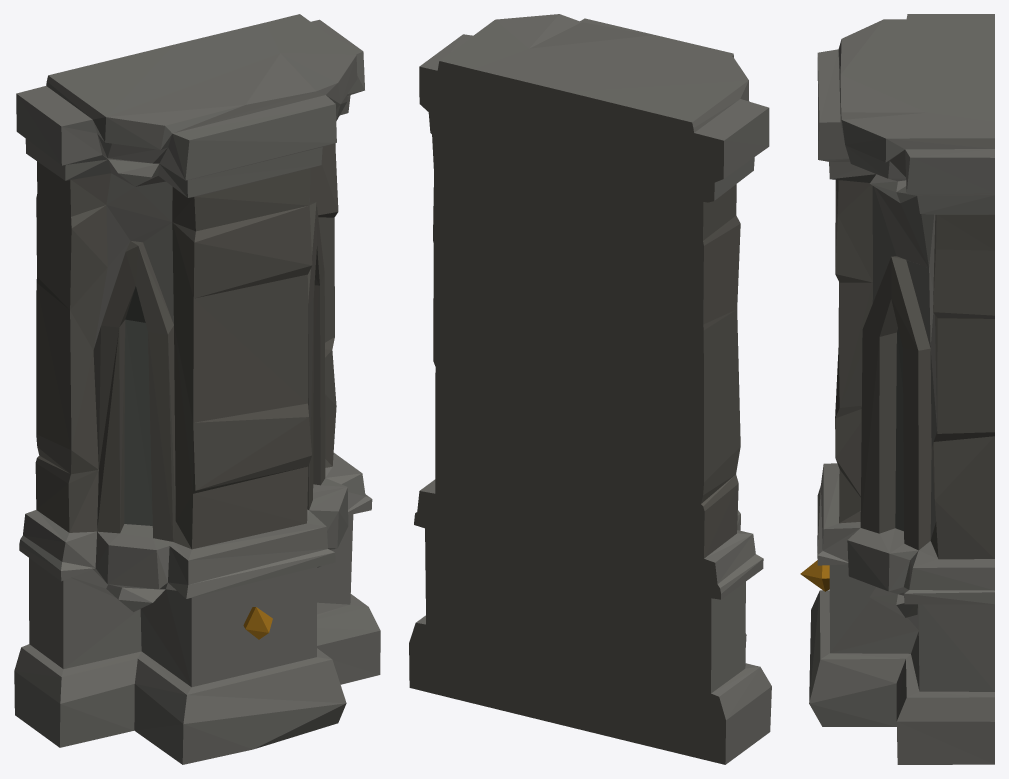
File: MDungeon_PillarSmall_Base_Half.FBX
3 views of the same model, side by side, from view 1: azimuth 30°, elevation 25°; view 2: azimuth 150°, elevation 25°; view 3: azimuth 270°, elevation 25° (orthographic). The views are drawn at different scales.
Parts seen in each view (by area): view 1: MDungeon_PillarSmall_Base_Half_LOD0; view 2: MDungeon_PillarSmall_Base_Half_LOD0; view 3: MDungeon_PillarSmall_Base_Half_LOD0.
Part boxes in pixels (bbox=[...]): MDungeon_PillarSmall_Base_Half_LOD0: bbox=[14, 14, 380, 764]; MDungeon_PillarSmall_Base_Half_LOD0: bbox=[409, 14, 771, 764]; MDungeon_PillarSmall_Base_Half_LOD0: bbox=[800, 14, 994, 764].
Size of what is drawn, in the model's own units: 2.05 by 3.91 by 1.13.
